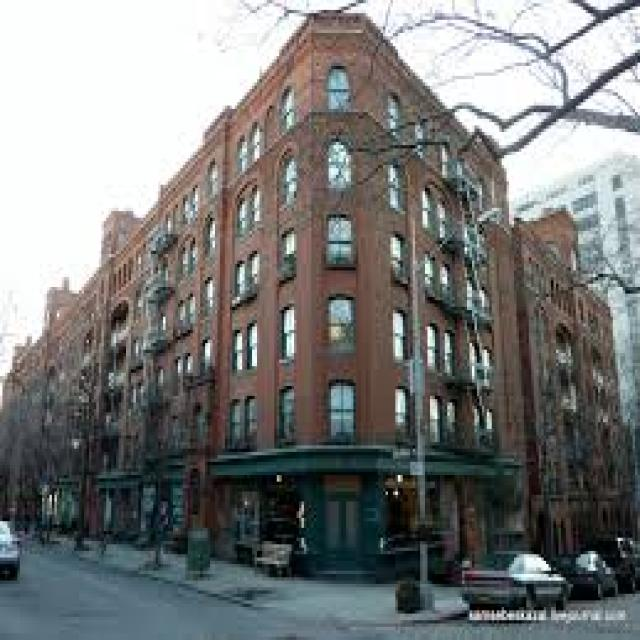window: (324, 380, 358, 446), (319, 297, 356, 356), (388, 376, 410, 452), (274, 152, 299, 214), (319, 69, 353, 112), (274, 307, 296, 373), (324, 214, 351, 260), (326, 148, 354, 192), (276, 382, 292, 448), (244, 247, 264, 297), (244, 393, 260, 452), (230, 323, 247, 376), (422, 393, 440, 442), (276, 82, 296, 126), (247, 122, 267, 162), (422, 251, 438, 297), (447, 396, 462, 445), (395, 307, 408, 363), (227, 396, 240, 452), (245, 317, 257, 376), (428, 323, 442, 373), (388, 165, 403, 211), (440, 264, 455, 310), (232, 258, 247, 300), (234, 198, 250, 237), (445, 336, 457, 386), (284, 238, 297, 284), (393, 231, 405, 280), (237, 128, 250, 172), (254, 188, 264, 224)
